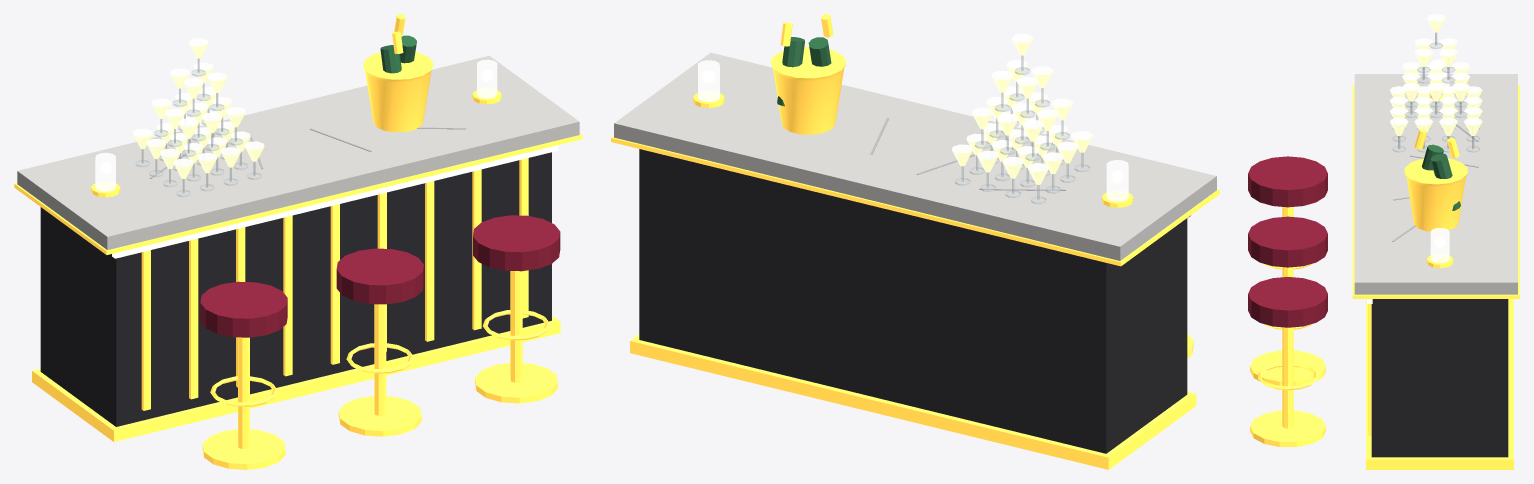
File: lux_champagne_bar.glb
3 renders of one model, left to right at view 1: azimuth 30°, elevation 25°; view 2: azimuth 150°, elevation 25°; view 3: azimuth 270°, elevation 25°, orthographic. The views are drawn at different scales.
Parts seen in each view (by area): view 1: lux_champagne_bar; view 2: lux_champagne_bar; view 3: lux_champagne_bar.
Boxes of the visible parts, x1,y1,x2,y2 form: lux_champagne_bar: (14,14,582,469); lux_champagne_bar: (611,14,1219,469); lux_champagne_bar: (1248,14,1519,469).
Bounding box in the file's own units: 2.62 × 1.79 × 1.43.
